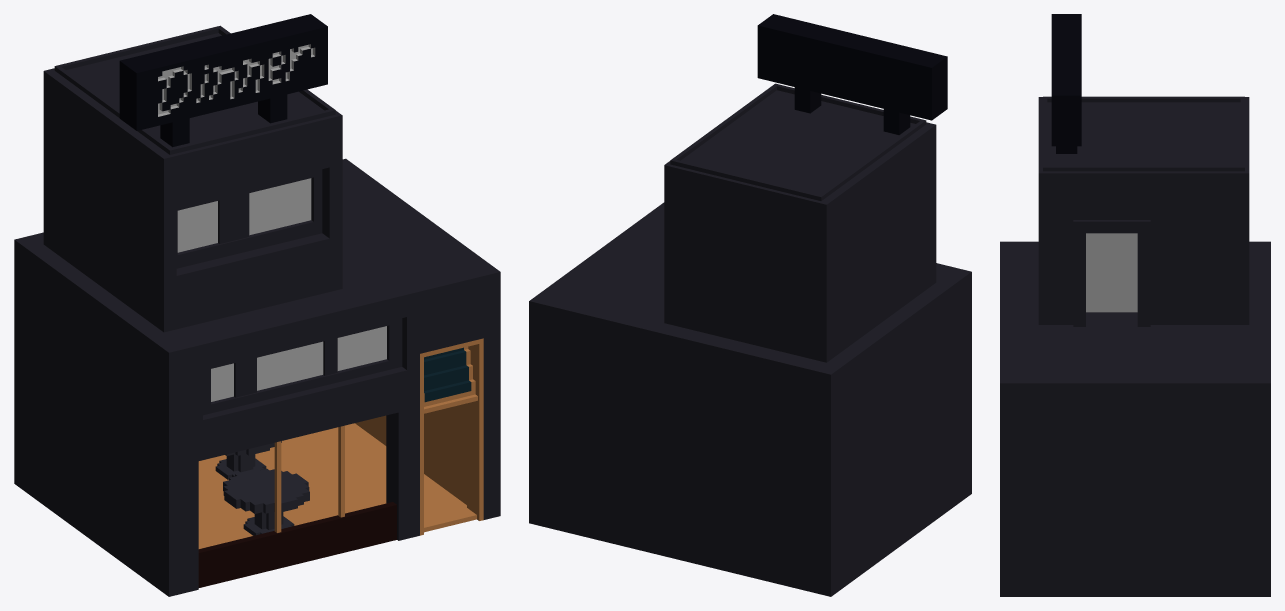
File: Building_Mesh_004.fbx
3 renders of one model, left to right at view 1: azimuth 30°, elevation 25°; view 2: azimuth 150°, elevation 25°; view 3: azimuth 270°, elevation 25°, orthographic. The views are drawn at different scales.
Parts seen in each view (by area): view 1: Building_004; view 2: Building_004; view 3: Building_004.
Part boxes in pixels (bbox=[...]): Building_004: bbox=[14, 14, 500, 596]; Building_004: bbox=[529, 14, 971, 596]; Building_004: bbox=[1000, 14, 1270, 596].
Bounding box in the file's own units: 7.87 × 11.3 × 6.3.
